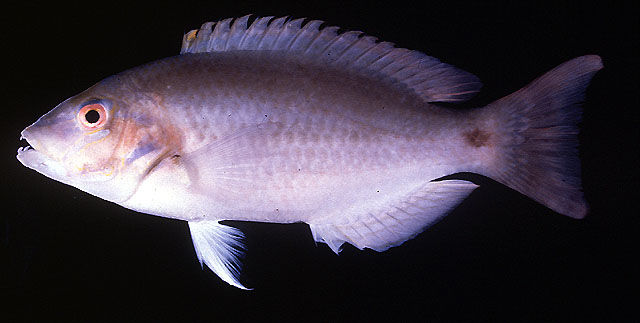fish: (16, 15, 601, 294)
